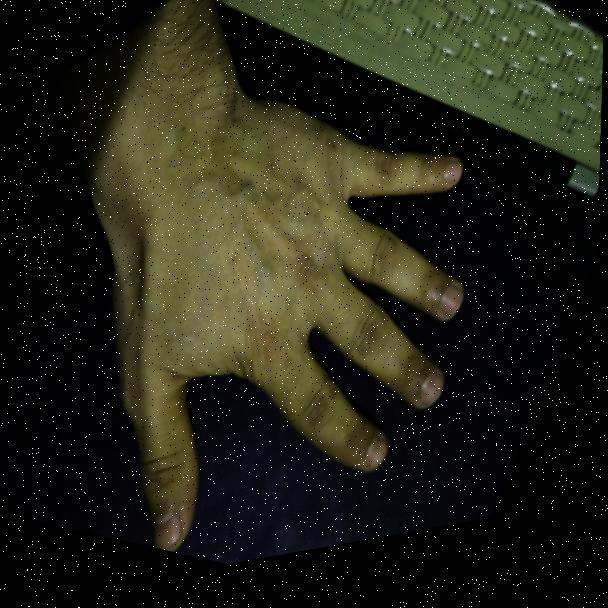five: (33, 29, 548, 601)
